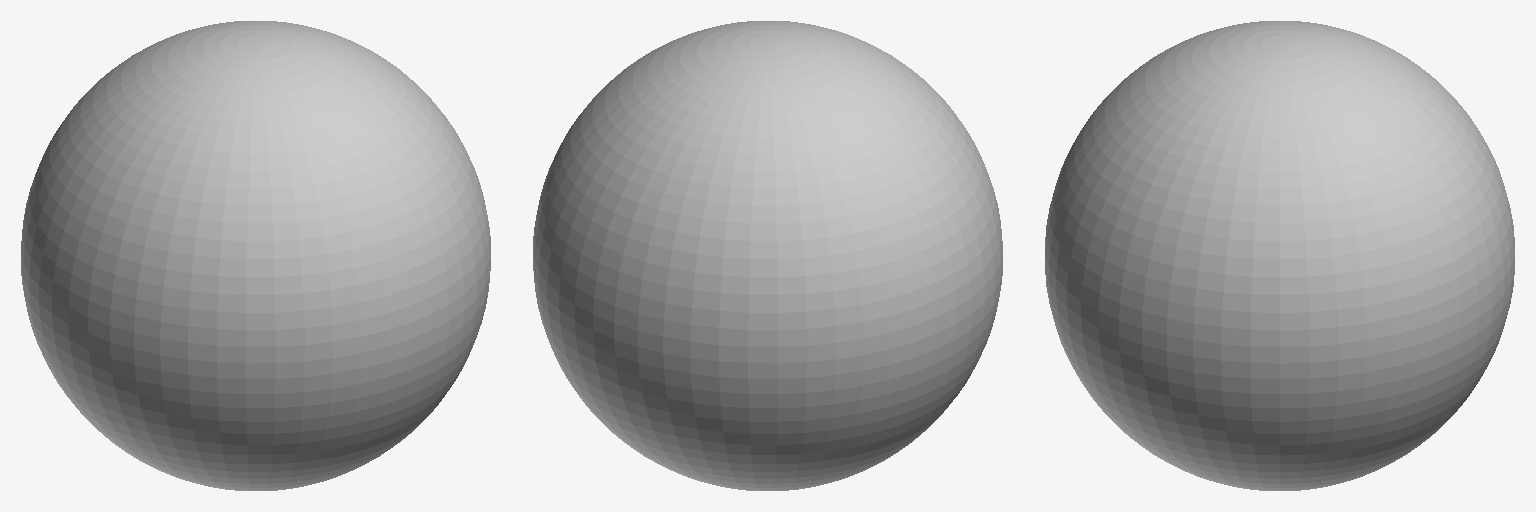
File: jungle.obj
3 renders of one model, left to right at view 1: azimuth 30°, elevation 25°; view 2: azimuth 150°, elevation 25°; view 3: azimuth 270°, elevation 25°, orthographic.
Visible parts, largest first — view 1: Fairytale_Garden_Background_0; view 2: Fairytale_Garden_Background_0; view 3: Fairytale_Garden_Background_0.
Part boxes in pixels (left/top/right/bottom): Fairytale_Garden_Background_0: left=21, top=21, right=490, bottom=490; Fairytale_Garden_Background_0: left=533, top=21, right=1002, bottom=490; Fairytale_Garden_Background_0: left=1045, top=21, right=1514, bottom=490.
Bounding box in the file's own units: 0.2478 × 0.248 × 0.2473.